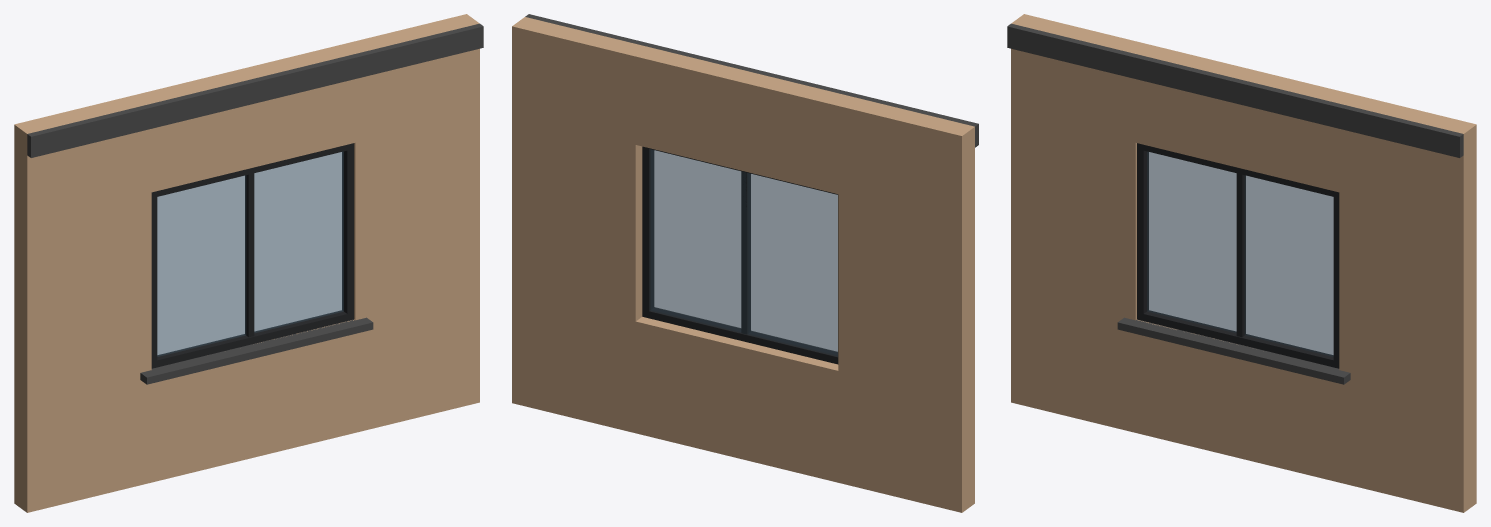
The model's file is KIT_Wall_4m_Window_Warm.glb.
3 views of the same model, side by side, from view 1: azimuth 30°, elevation 25°; view 2: azimuth 150°, elevation 25°; view 3: azimuth 330°, elevation 25° (orthographic).
Visible parts, largest first — view 1: KIT_Wall_4m_Window_Warm; view 2: KIT_Wall_4m_Window_Warm; view 3: KIT_Wall_4m_Window_Warm.
Part boxes in pixels (<box>): KIT_Wall_4m_Window_Warm: <box>14,14,483,512</box>; KIT_Wall_4m_Window_Warm: <box>512,14,978,512</box>; KIT_Wall_4m_Window_Warm: <box>1007,14,1476,512</box>.
Bounding box in the file's own units: 4 × 3.2 × 0.3.
